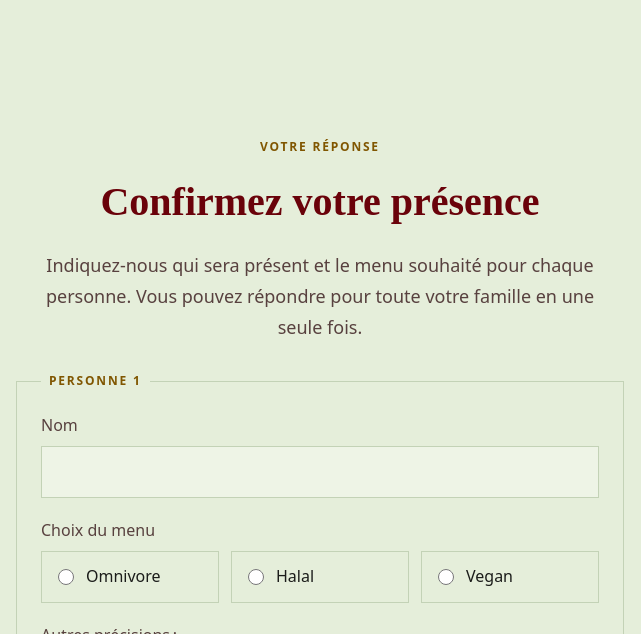
Test case: RsvpPage › asks the guest to check their connection when the api is unreachable
Type "Camille" into the field labelled "Nom" at (320, 472), box top-left (41, 446), bottom-right (599, 498)
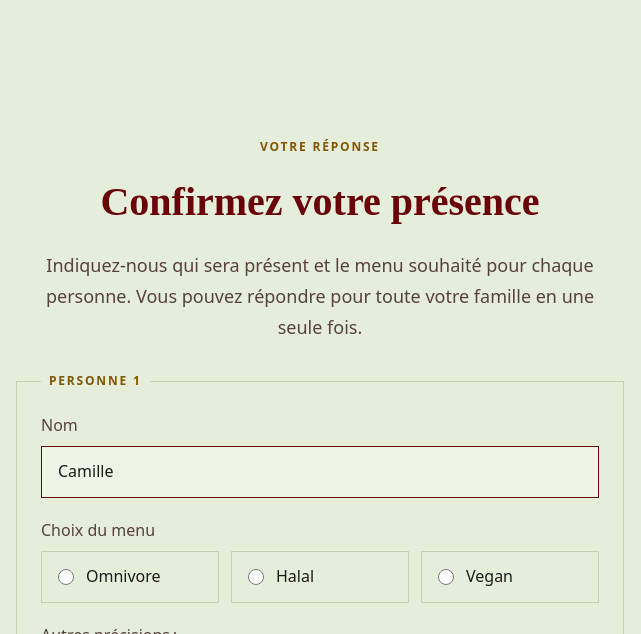
Click the radio button labelled "Vegan" at (446, 577), box top-left (438, 569), bottom-right (454, 585)
(page scrolled)
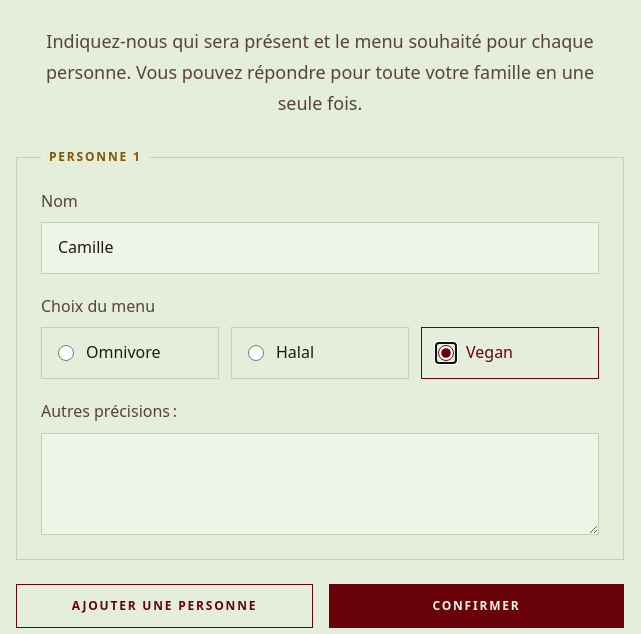
Click the button "Confirmer" at (476, 606), box top-left (329, 584), bottom-right (624, 628)
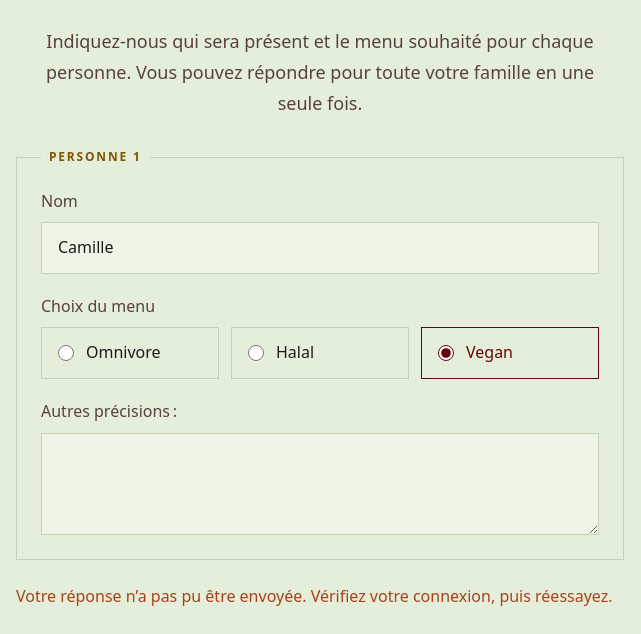
expect the message shows "Vérifiez votre connexion, puis réessayez.": met, box top-left (16, 585), bottom-right (612, 607)
